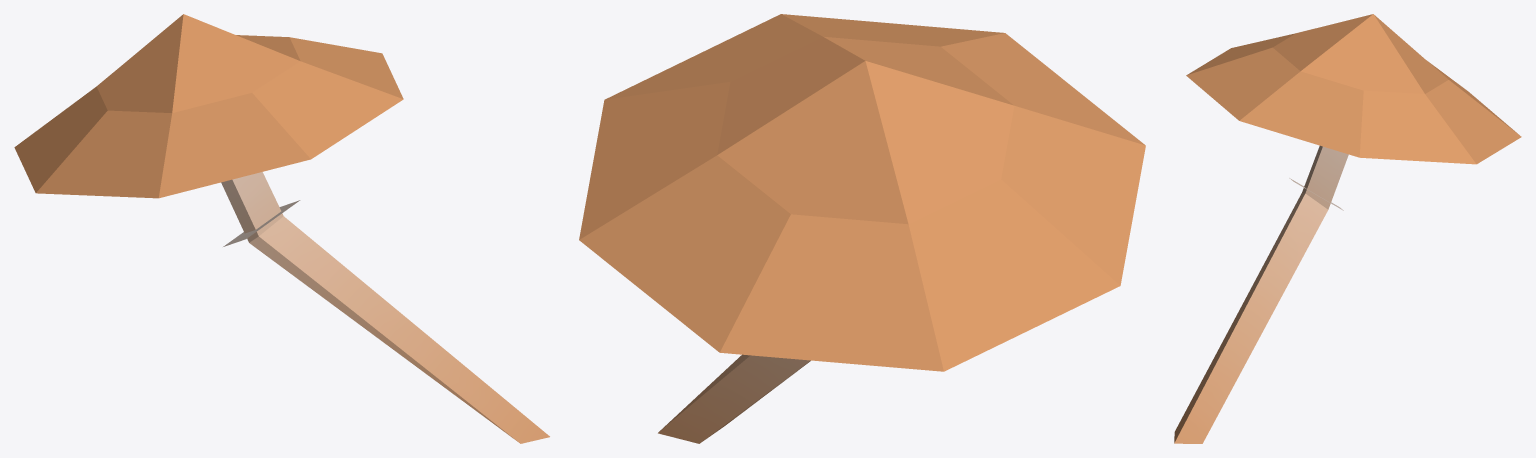
The model's file is Mushroom_i_03.fbx.
The picture shows the model from 3 angles, left to right: view 1: azimuth 30°, elevation 25°; view 2: azimuth 150°, elevation 25°; view 3: azimuth 270°, elevation 25°; orthographic projection. The views are drawn at different scales.
Visible parts, largest first — view 1: Mushroom_i_03; view 2: Mushroom_i_03; view 3: Mushroom_i_03.
Part boxes in pixels (bbox=[...]): Mushroom_i_03: bbox=[14, 14, 549, 443]; Mushroom_i_03: bbox=[579, 14, 1145, 443]; Mushroom_i_03: bbox=[1174, 14, 1521, 443].
Size of the model in its own units: 0.2837 by 0.2611 by 0.2499.
